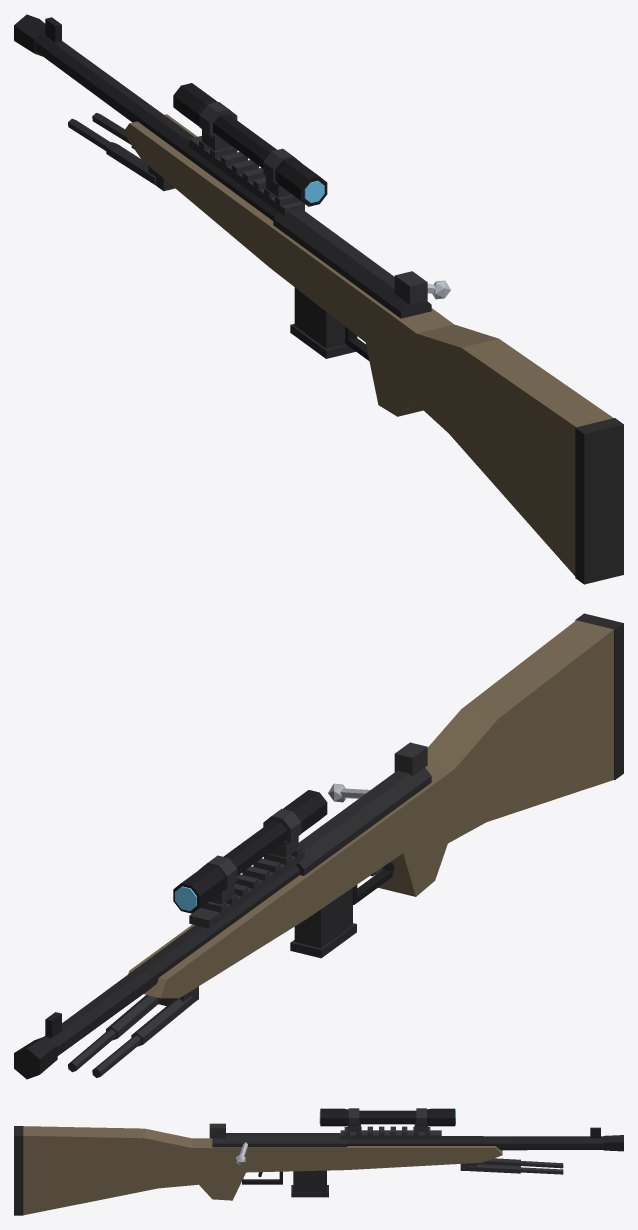
Rendered from Kestrel.glb.
3 views of the same model, one above another, from view 1: azimuth 30°, elevation 25°; view 2: azimuth 150°, elevation 25°; view 3: azimuth 270°, elevation 25° (orthographic). The views are drawn at different scales.
Visible parts, largest first — view 1: Stock, Pad, Barrel, Mount, Body, Scope, Magazine, Bipod, Muzzle; view 2: Stock, Barrel, Mount, Body, Scope, Bipod, Magazine, Pad, Muzzle, Trigger; view 3: Stock, Barrel, Mount, Scope, Body, Bipod, Magazine, Pad, Muzzle, Trigger.
Boxes of the visible parts, x1,y1,x2,y2 form: Stock: [123, 114, 613, 575]; Pad: [575, 418, 623, 584]; Barrel: [35, 33, 277, 220]; Mount: [189, 102, 427, 304]; Body: [273, 208, 431, 318]; Scope: [173, 83, 327, 206]; Magazine: [290, 287, 355, 358]; Bipod: [68, 113, 174, 191]; Muzzle: [14, 14, 61, 56]; Stock: [128, 620, 613, 998]; Barrel: [44, 865, 299, 1055]; Mount: [189, 742, 427, 928]; Body: [296, 767, 431, 875]; Scope: [173, 790, 327, 913]; Bipod: [68, 986, 198, 1077]; Magazine: [290, 887, 356, 958]; Pad: [575, 613, 623, 779]; Muzzle: [14, 1012, 61, 1079]; Trigger: [353, 862, 394, 904]; Stock: [23, 1126, 502, 1215]; Barrel: [347, 1136, 603, 1150]; Mount: [209, 1108, 441, 1139]; Scope: [320, 1108, 455, 1126]; Body: [212, 1133, 347, 1147]; Bipod: [460, 1158, 563, 1174]; Magazine: [291, 1170, 328, 1197]; Pad: [14, 1126, 23, 1215]; Muzzle: [590, 1127, 623, 1151]; Trigger: [242, 1171, 282, 1184].
Bounding box in the file's own units: 0.3557 × 0.8228 × 4.52.
